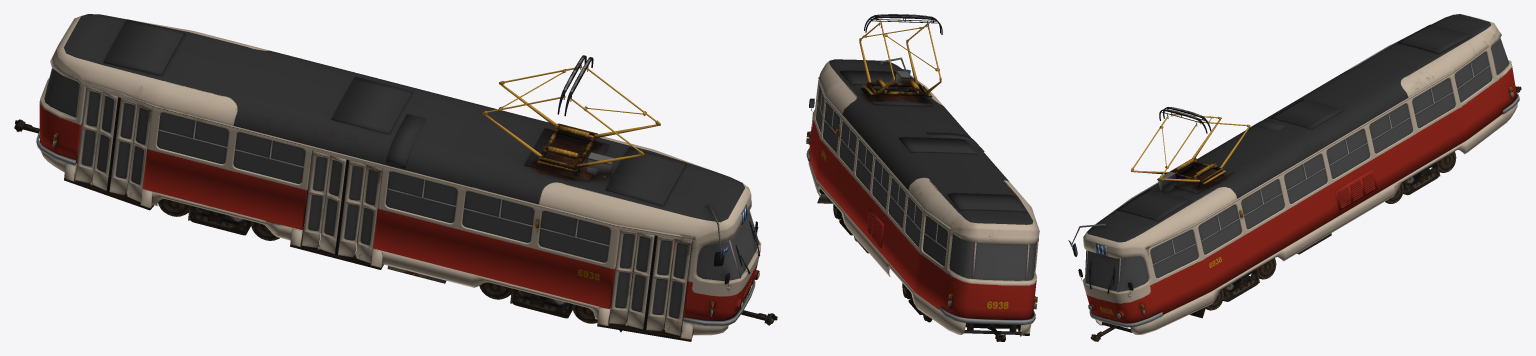
3 renders of one model, left to right at view 1: azimuth 30°, elevation 25°; view 2: azimuth 150°, elevation 25°; view 3: azimuth 270°, elevation 25°, orthographic. The views are drawn at different scales.
Visible parts, largest first — view 1: body_low_01 - Default_0, windows_low_01 - Default_0, fender_low_01 - Default_0, doors_low_01 - Default_0, doors_low002_01 - Default_0, doors_low001_01 - Default_0, power_low_01 - Default_0, Object001_01 - Default_0, Object002_01 - Default_0, suspension_low_01 - Default_0, wheels_low_01 - Default_0, windows_bar_low_01 - Default_0 (+2 smaller); view 2: body_low_01 - Default_0, windows_low_01 - Default_0, power_low_01 - Default_0, fender_low_01 - Default_0, bottom_low_01 - Default_0, windows_bar_low_01 - Default_0, bumper_low_01 - Default_0, suspension_low_01 - Default_0, wheels_low_01 - Default_0, lights_low_01 - Default_0; view 3: body_low_01 - Default_0, windows_low_01 - Default_0, fender_low_01 - Default_0, power_low_01 - Default_0, suspension_low_01 - Default_0, windows_bar_low_01 - Default_0, wheels_low_01 - Default_0, bumper_low_01 - Default_0, bottom_low_01 - Default_0.
Boxes of the visible parts, box(x1,y1,x2,y2) form: body_low_01 - Default_0: box(39, 14, 761, 320); windows_low_01 - Default_0: box(44, 68, 758, 280); fender_low_01 - Default_0: box(40, 151, 728, 341); doors_low_01 - Default_0: box(301, 151, 382, 263); doors_low002_01 - Default_0: box(609, 229, 692, 335); doors_low001_01 - Default_0: box(75, 86, 151, 202); power_low_01 - Default_0: box(482, 55, 660, 176); Object001_01 - Default_0: box(615, 233, 687, 318); Object002_01 - Default_0: box(81, 91, 148, 184); suspension_low_01 - Default_0: box(188, 205, 572, 318); wheels_low_01 - Default_0: box(158, 199, 597, 323); windows_bar_low_01 - Default_0: box(44, 68, 759, 278); body_low_01 - Default_0: box(809, 59, 1039, 319); windows_low_01 - Default_0: box(816, 85, 1036, 280); power_low_01 - Default_0: box(859, 14, 942, 102); fender_low_01 - Default_0: box(808, 161, 1031, 336); bottom_low_01 - Default_0: box(817, 189, 1021, 341); windows_bar_low_01 - Default_0: box(817, 92, 1029, 280); bumper_low_01 - Default_0: box(806, 148, 1035, 324); suspension_low_01 - Default_0: box(836, 208, 922, 314); wheels_low_01 - Default_0: box(833, 204, 932, 322); lights_low_01 - Default_0: box(806, 128, 1037, 309); body_low_01 - Default_0: box(1083, 14, 1517, 323); windows_low_01 - Default_0: box(1085, 38, 1509, 291); fender_low_01 - Default_0: box(1095, 103, 1517, 334); power_low_01 - Default_0: box(1131, 107, 1250, 188); suspension_low_01 - Default_0: box(1222, 161, 1440, 301); windows_bar_low_01 - Default_0: box(1085, 62, 1490, 292); wheels_low_01 - Default_0: box(1206, 151, 1456, 310); bumper_low_01 - Default_0: box(1089, 93, 1519, 327); bottom_low_01 - Default_0: box(1090, 86, 1521, 341).
Bounding box in the file's own units: 10.65 × 5.2 × 11.41.
Materials: 1 (1 with a texture image).
